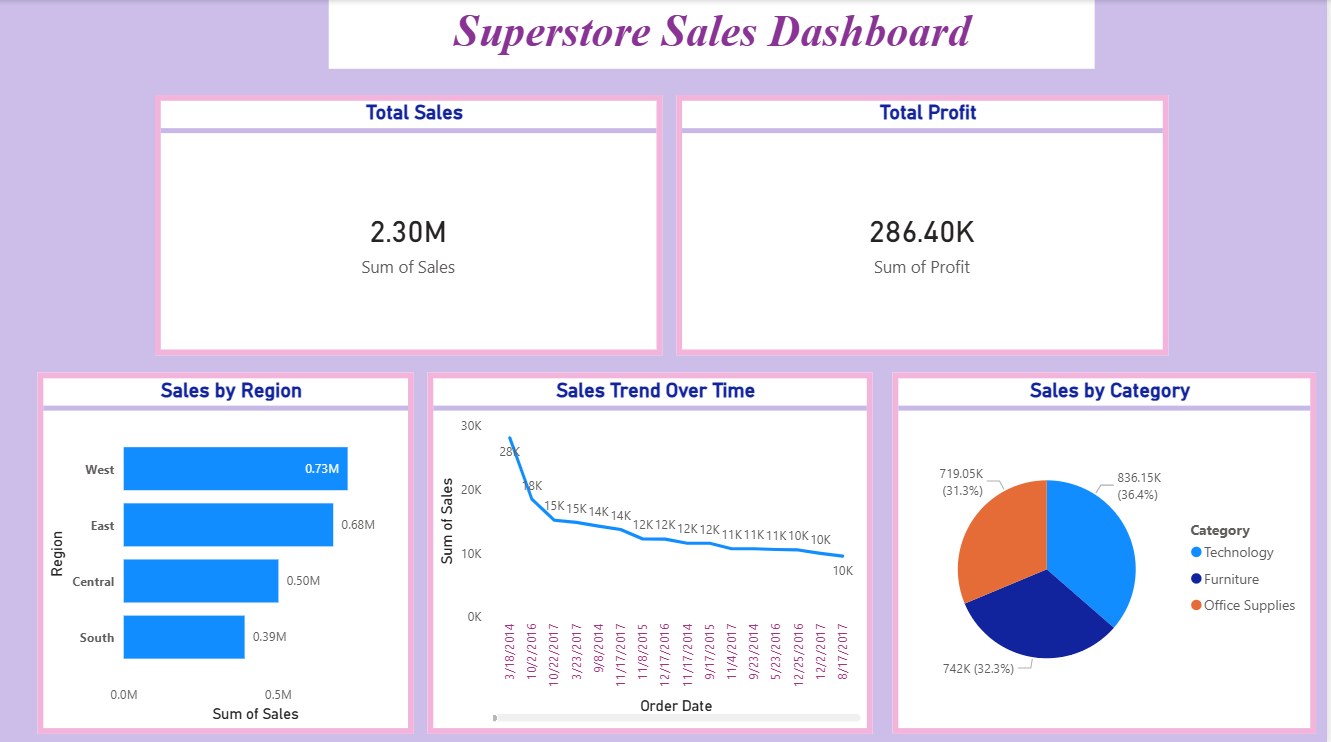

What the dashboard file says about the page in this screenshot:
{"tool":"powerbi","page":{"name":"Page 1","canvas":[1280,720],"ordinal":0},"visuals":[{"type":"card","title":"Total Sales","fields":{"Values":["Sum(Sample - Superstore.Sales)"]},"box":[149.6,91.7,489.8,250.9],"z":1000},{"type":"card","title":"Total Profit","fields":{"Values":["Sum(Sample - Superstore.Profit)"]},"box":[652.7,91.7,475.3,250.9],"z":2000},{"type":"clusteredBarChart","title":" Sales by Region","fields":{"Category":["Sample - Superstore.Region"],"Y":["Sum(Sample - Superstore.Sales)"]},"box":[36.2,359.5,363.1,348.7],"z":3000},{"type":"pieChart","title":"Sales by Category","fields":{"Category":["Sample - Superstore.Category"],"Y":["Sum(Sample - Superstore.Sales)"]},"box":[861.4,359.5,409,348.7],"z":4000},{"type":"lineChart","title":"Sales Trend Over Time","fields":{"Category":["Sample - Superstore.Order Date"],"Y":["Sum(Sample - Superstore.Sales)"]},"box":[412.6,359.5,429.5,348.7],"z":5000},{"type":"textbox","box":[317.3,0,739.5,66.4],"z":6000}]}

Visuals, with their boxes in screenshot pixels (x1, y1, x2, y2), scaled from the page's 1280x720 canvas onto the 1331x742 screenshot:
"Total Sales" card: 156 95 665 353
"Total Profit" card: 679 95 1173 353
" Sales by Region" clusteredBarChart: 38 370 415 730
"Sales by Category" pieChart: 896 370 1321 730
"Sales Trend Over Time" lineChart: 429 370 876 730
textbox: 330 0 1099 68
